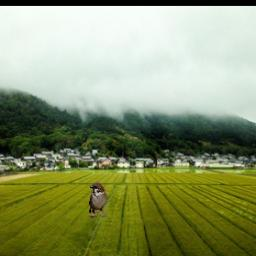Sparrow: (88, 183, 107, 220)
